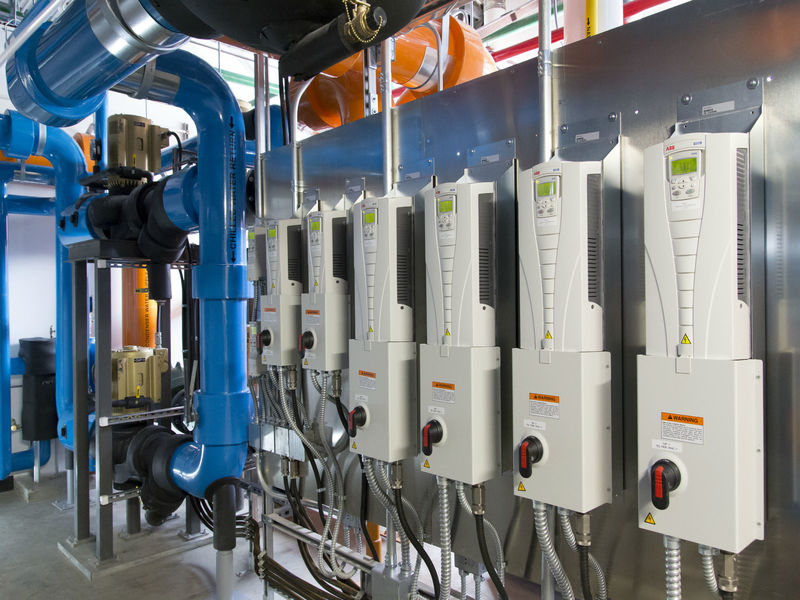valve: (128, 382, 146, 406), (130, 147, 140, 177)
